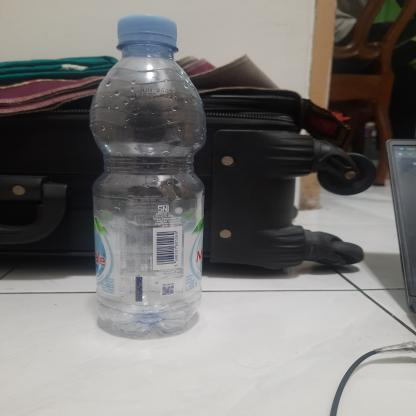bottle: (86, 14, 211, 342)
